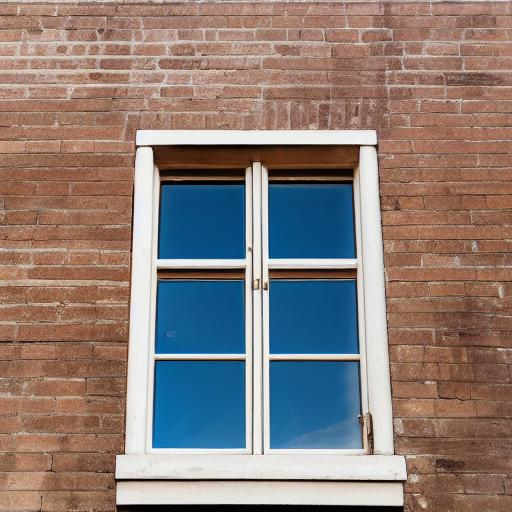Window: (110, 130, 406, 507), (111, 131, 340, 512), (261, 317, 404, 338)
